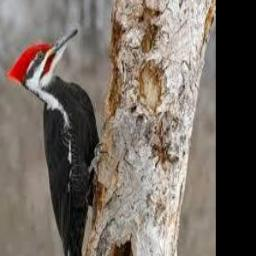Woodpecker: (7, 27, 100, 256)
